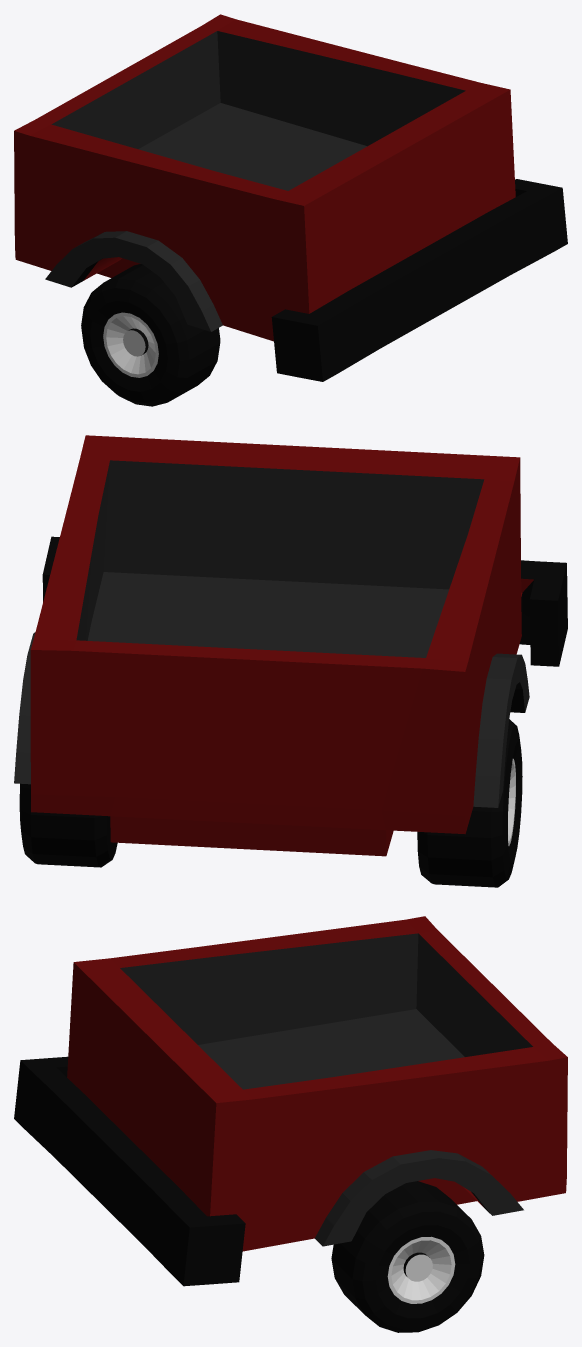
File: bed.fbx
The picture shows the model from 3 angles, top to bottom: view 1: azimuth 30°, elevation 25°; view 2: azimuth 150°, elevation 25°; view 3: azimuth 270°, elevation 25°; orthographic projection. The views are drawn at different scales.
Visible parts, largest first — view 1: pasted__pCylinder101; view 2: pasted__pCylinder101; view 3: pasted__pCylinder101.
Part boxes in pixels (bbox=[...]): pasted__pCylinder101: bbox=[14, 14, 567, 406]; pasted__pCylinder101: bbox=[14, 435, 567, 887]; pasted__pCylinder101: bbox=[14, 916, 567, 1332].
Bounding box in the file's own units: 3.59 × 1.93 × 3.72.
